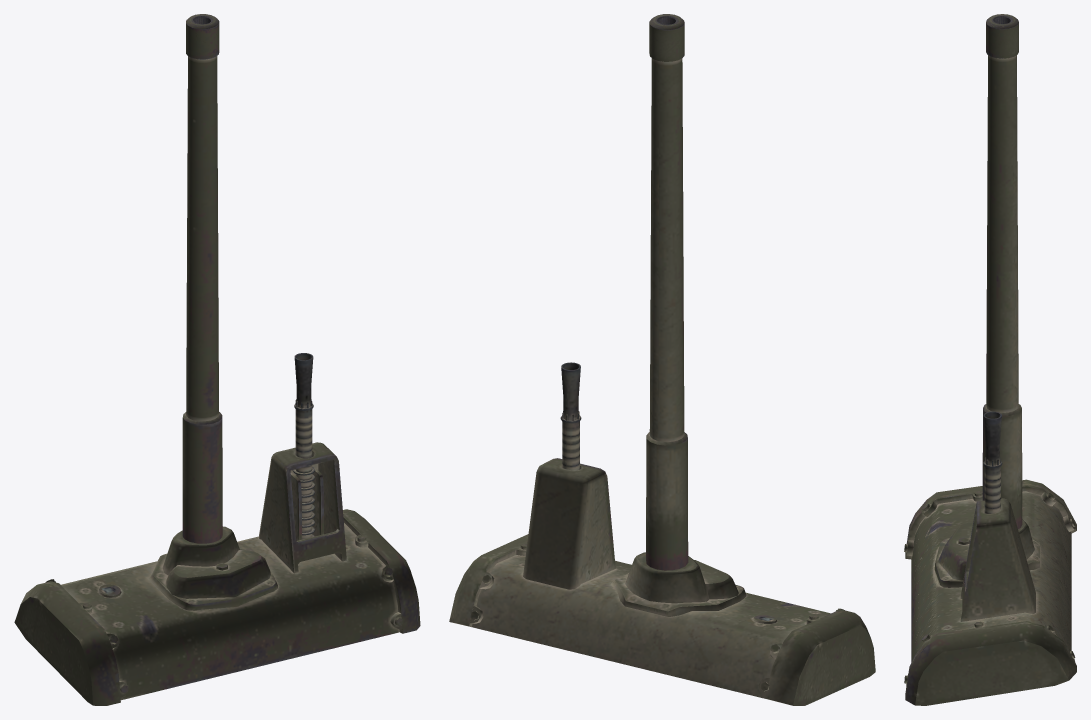
File: Gun_01.glb
3 renders of one model, left to right at view 1: azimuth 30°, elevation 25°; view 2: azimuth 150°, elevation 25°; view 3: azimuth 270°, elevation 25°, orthographic. The views are drawn at different scales.
Visible parts, largest first — view 1: set_0_group_0; view 2: set_0_group_0; view 3: set_0_group_0.
Boxes of the visible parts, x1,y1,x2,y2 form: set_0_group_0: [14, 14, 420, 705]; set_0_group_0: [449, 14, 875, 705]; set_0_group_0: [904, 14, 1076, 705].
Bounding box in the file's own units: 0.8954 × 1.61 × 0.4181.
1 material, 1 textured.
